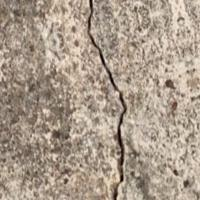crack: (69, 0, 143, 199)
